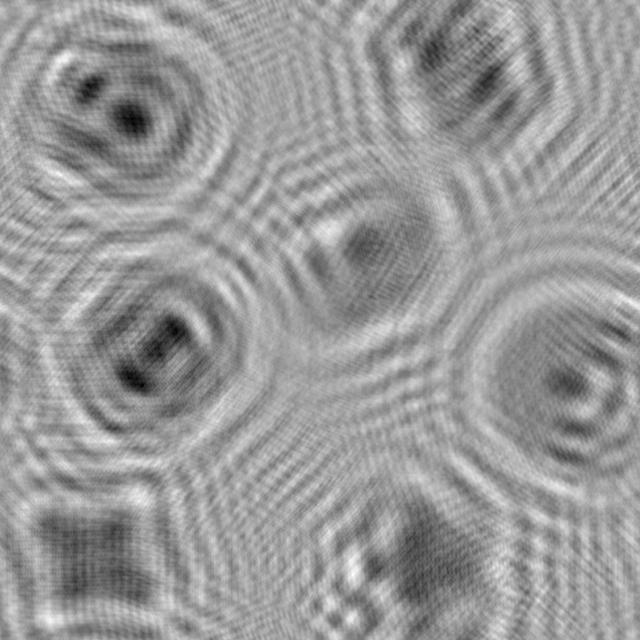B: (22, 187, 291, 472)
K: (263, 426, 526, 640)
L: (233, 141, 509, 396)
R: (0, 0, 258, 237)
U: (418, 227, 640, 529)
X: (0, 435, 241, 640)
Z: (318, 0, 605, 201)
